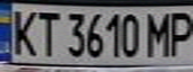0: (118, 10, 145, 58)
1: (103, 10, 124, 58)
3: (63, 9, 87, 58)
6: (84, 9, 106, 58)
K: (3, 6, 42, 57)
M: (142, 8, 175, 57)
P: (163, 8, 193, 57)
T: (30, 8, 63, 57)
